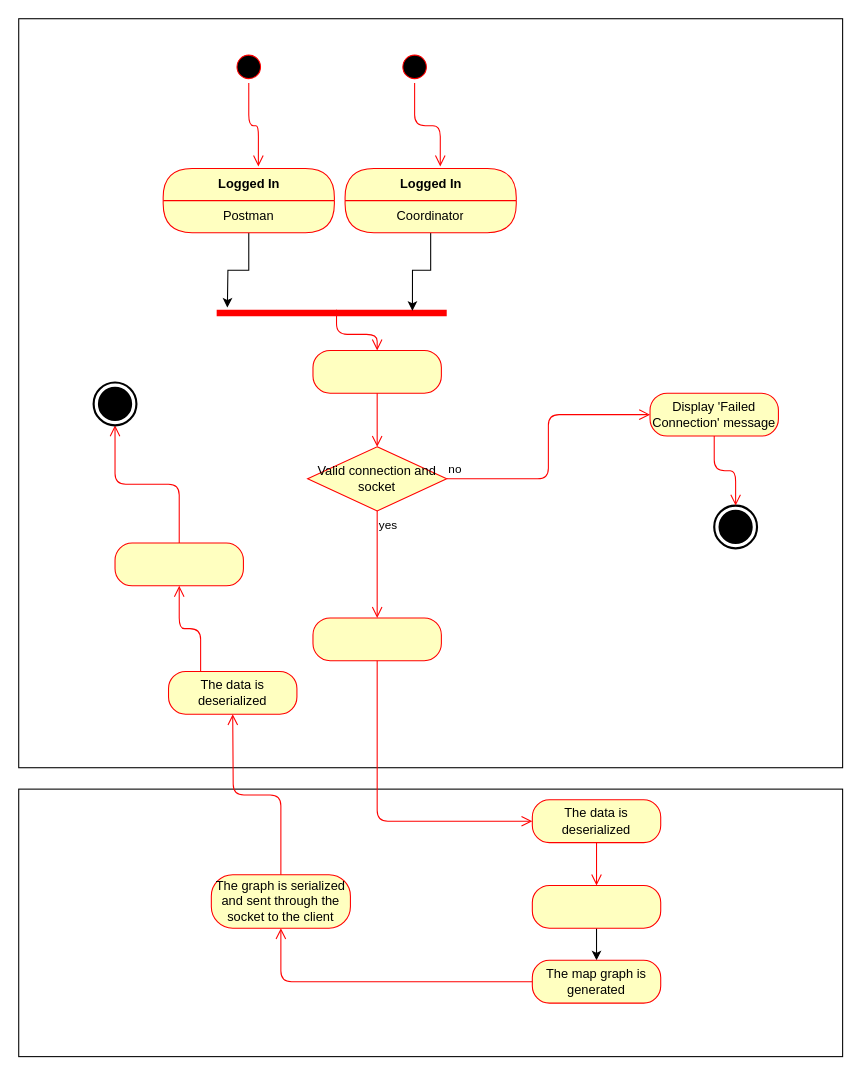
Some shapes in this 861 by 1075 pixel diagram are drawn without their labels. The centre of each missing label's shape, as x and y in pixels:
Map tab is clicked: (376,371)
Send request through the socket: (376,639)
The DB is being querried: (596,906)
The graph is converted into a panel and displayed: (178,564)
